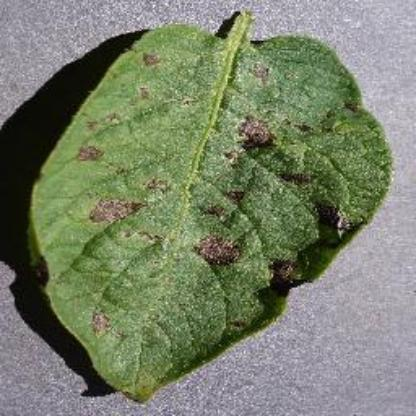Early-Blight: (24, 7, 388, 400)
